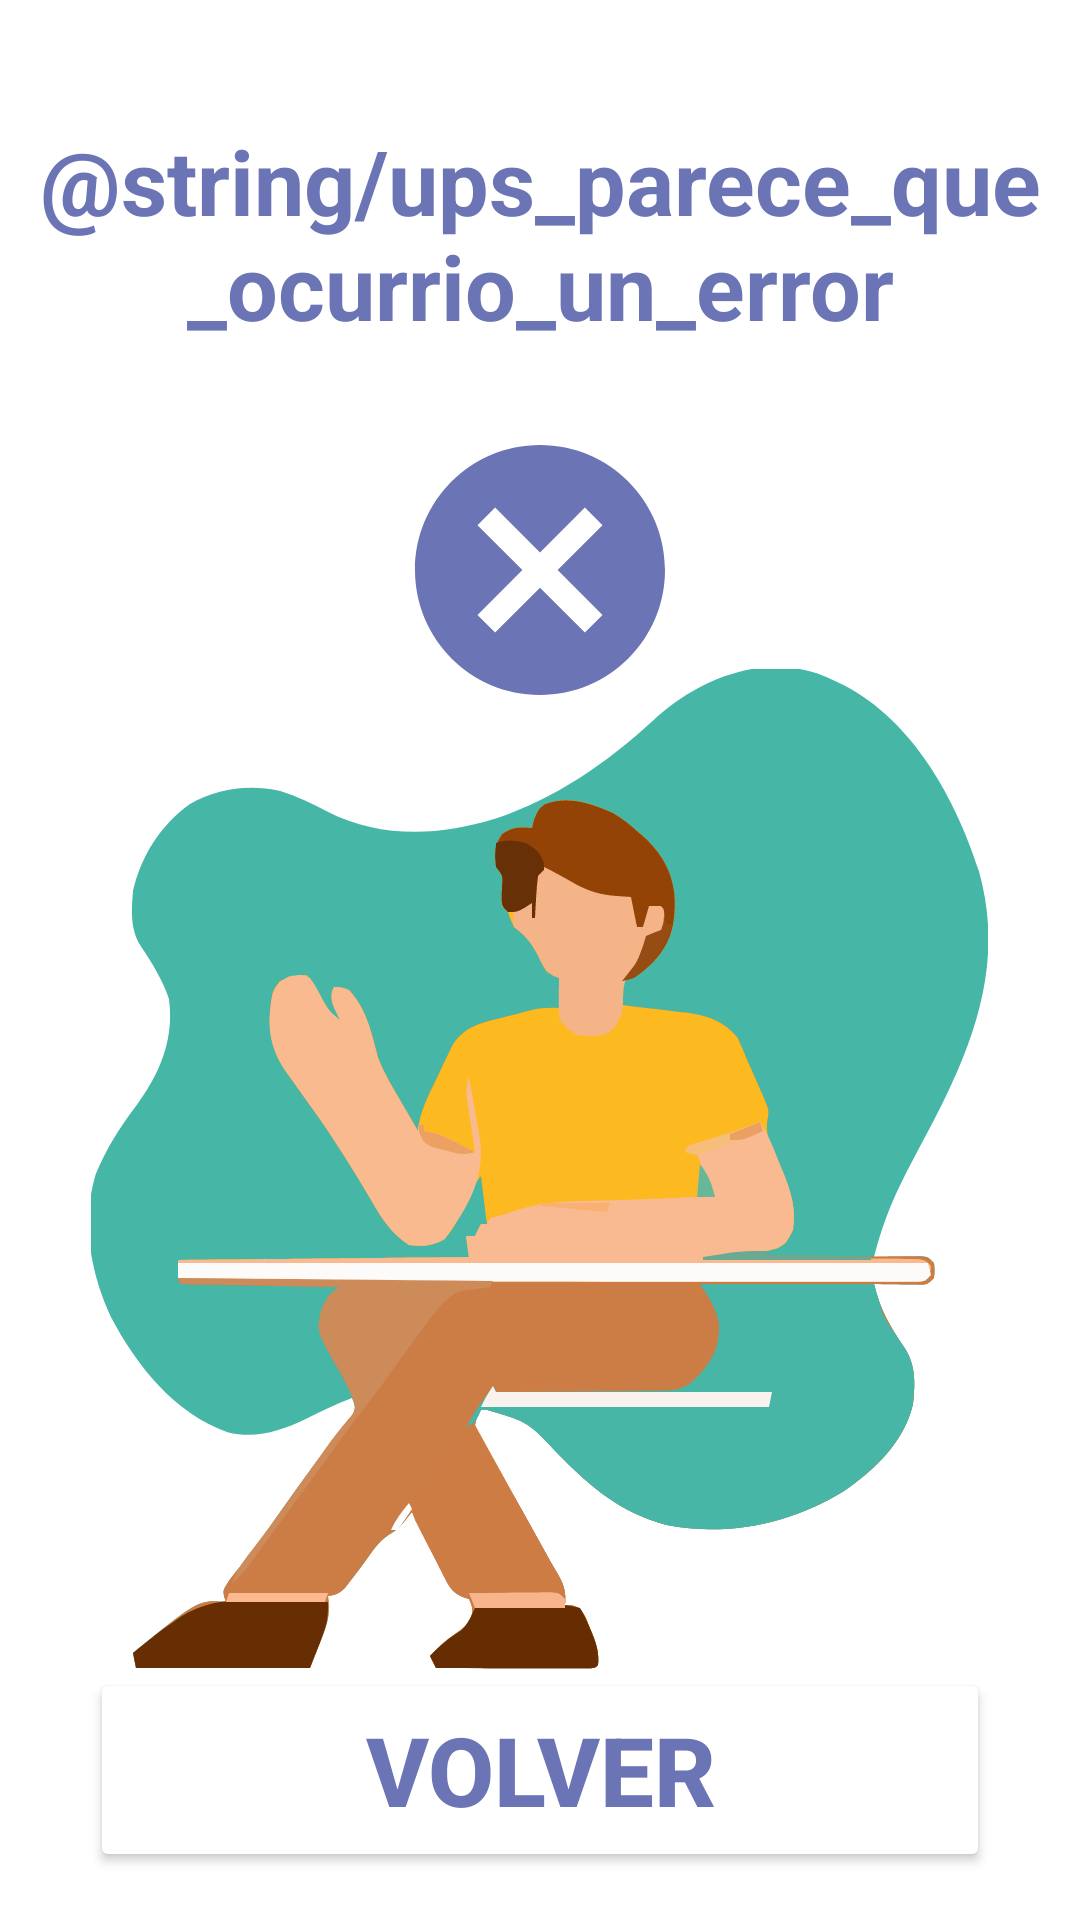

Screen size 1080w x 1920h. Icon name, then its box in pixels as (x1, y1, x2, y2):
cancelmark: (415, 445, 665, 695)
